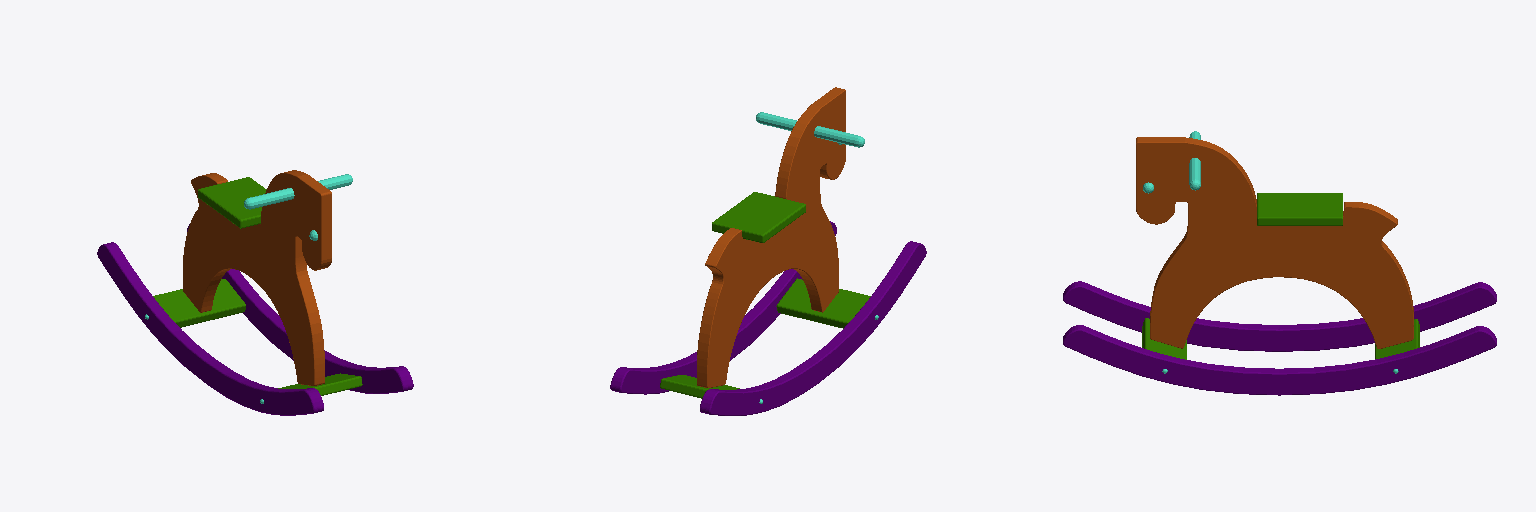
Rendered from caballito.obj.
3 views of the same model, side by side, from view 1: azimuth 30°, elevation 25°; view 2: azimuth 150°, elevation 25°; view 3: azimuth 270°, elevation 25° (orthographic).
Visible parts, largest first — view 1: RH10, RH17, RH12, RH11, RH14, RH13; view 2: RH10, RH17, RH11, RH13, RH14, RH12; view 3: RH10, RH17, RH11, RH13, RH12.
Part boxes in pixels (x1,y1,x2,y2): RH10: (183,170,331,385); RH17: (97,224,413,415); RH12: (153,279,245,327); RH11: (198,177,266,228); RH14: (244,174,352,209); RH13: (278,373,362,395); RH10: (697,87,845,387); RH17: (610,221,926,415); RH11: (712,192,805,242); RH13: (776,278,870,328); RH14: (756,112,864,147); RH12: (660,375,739,398); RH10: (1136,137,1413,348); RH17: (1063,281,1496,395); RH11: (1257,193,1342,225); RH13: (1142,318,1186,359); RH12: (1375,319,1419,358).
Bounding box in the file's own units: 341 × 699 × 1187.